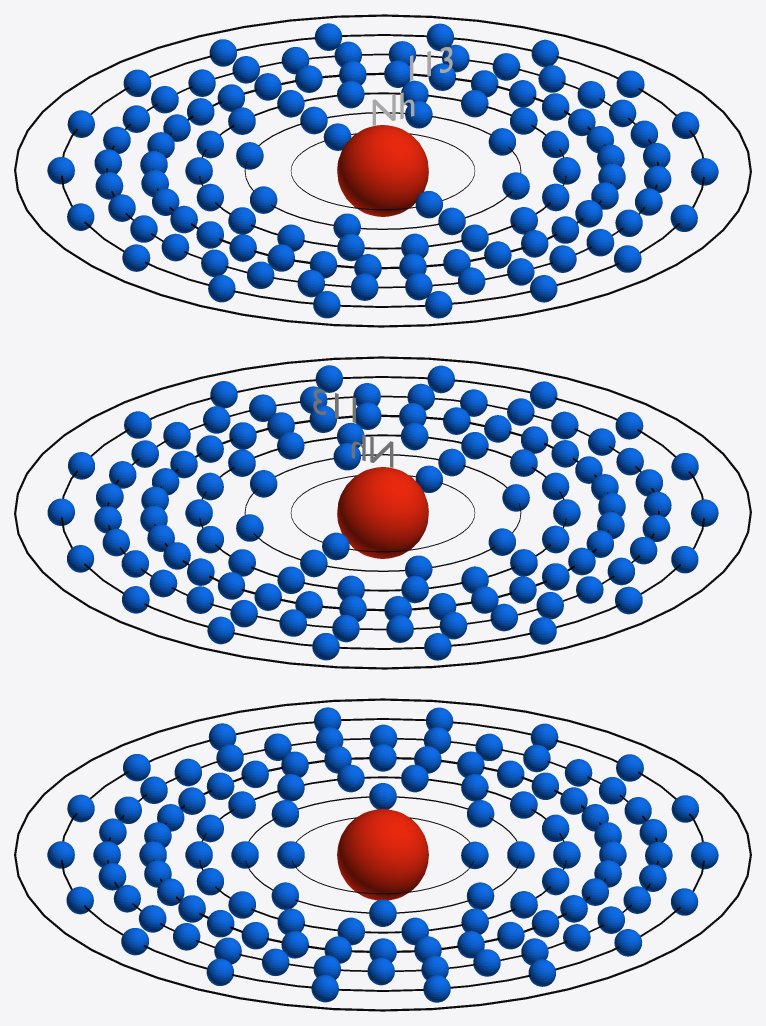
3 views of the same model, one above another, from view 1: azimuth 30°, elevation 25°; view 2: azimuth 150°, elevation 25°; view 3: azimuth 270°, elevation 25° (orthographic).
Visible parts, largest first — view 1: Nh5, Nh4, Nh6, Nh3, Proton, n7, Nh2, n6, n5, Nh1, n3, n4 (+1 smaller); view 2: Nh5, Nh4, Nh6, Nh3, Proton, n7, Nh2, n6, n5, Nh1, n3, n4 (+1 smaller); view 3: Nh5, Nh4, Nh3, Nh6, Proton, Nh2, n7, n6, Nh1, n5, n3, n4 (+2 smaller).
Boxes of the visible parts, x1,y1,x2,y2 form: Nh5: [94, 41, 671, 300]; Nh4: [140, 60, 625, 279]; Nh6: [47, 23, 718, 318]; Nh3: [185, 80, 580, 261]; Proton: [337, 125, 428, 216]; n7: [14, 14, 751, 327]; Nh2: [236, 101, 529, 238]; n6: [61, 34, 704, 307]; n5: [106, 53, 658, 288]; Nh1: [323, 123, 442, 218]; n3: [199, 92, 566, 249]; n4: [152, 72, 611, 269]; Nh5: [94, 383, 671, 642]; Nh4: [140, 402, 625, 621]; Nh6: [47, 365, 718, 660]; Nh3: [185, 422, 580, 603]; Proton: [337, 467, 428, 558]; n7: [14, 356, 751, 669]; Nh2: [236, 443, 529, 580]; n6: [61, 376, 704, 649]; n5: [107, 395, 659, 630]; Nh1: [322, 465, 442, 560]; n3: [199, 434, 566, 591]; n4: [153, 414, 613, 611]; Nh5: [93, 724, 672, 985]; Nh4: [139, 744, 626, 963]; Nh3: [185, 764, 580, 945]; Nh6: [47, 707, 718, 1002]; Proton: [337, 809, 428, 900]; Nh2: [231, 783, 534, 926]; n7: [14, 698, 751, 1011]; n6: [61, 718, 704, 991]; Nh1: [277, 841, 488, 869]; n5: [107, 738, 658, 971]; n3: [199, 776, 566, 933]; n4: [153, 757, 612, 952].
Size of the model in its own units: 802 by 180 by 802.
